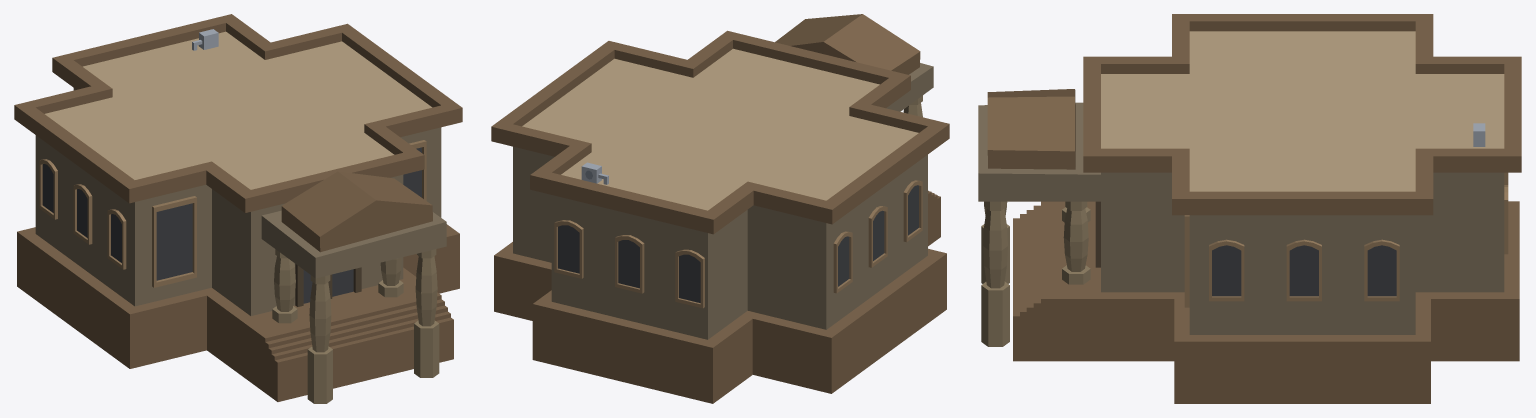
Rendered from Building_Museumm.fbx.
The picture shows the model from 3 angles, left to right: view 1: azimuth 30°, elevation 25°; view 2: azimuth 150°, elevation 25°; view 3: azimuth 270°, elevation 25°; orthographic projection. The views are drawn at different scales.
Visible parts, largest first — view 1: Building_Museumm; view 2: Building_Museumm; view 3: Building_Museumm.
Part boxes in pixels (box(x1,y1,x2,y2)): Building_Museumm: box(14, 14, 462, 403); Building_Museumm: box(491, 14, 949, 403); Building_Museumm: box(978, 14, 1521, 403).
Bounding box in the file's own units: 2478 × 1346 × 3077.
